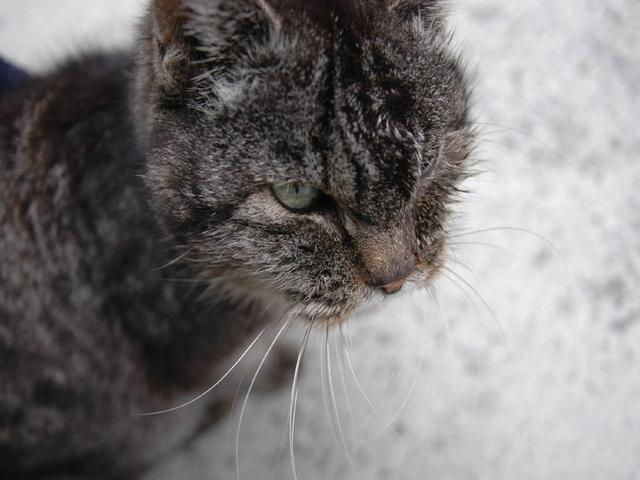cat: (69, 6, 514, 421)
